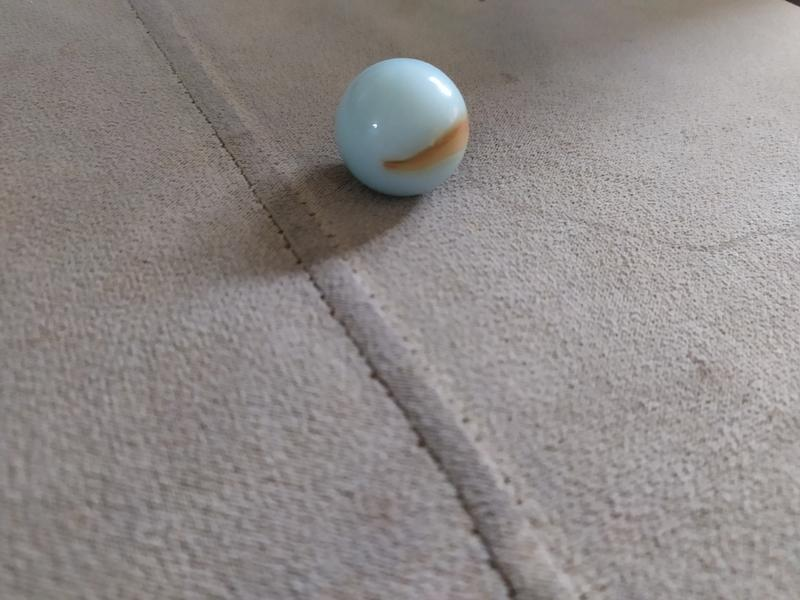Warning: (332, 55, 473, 201)
